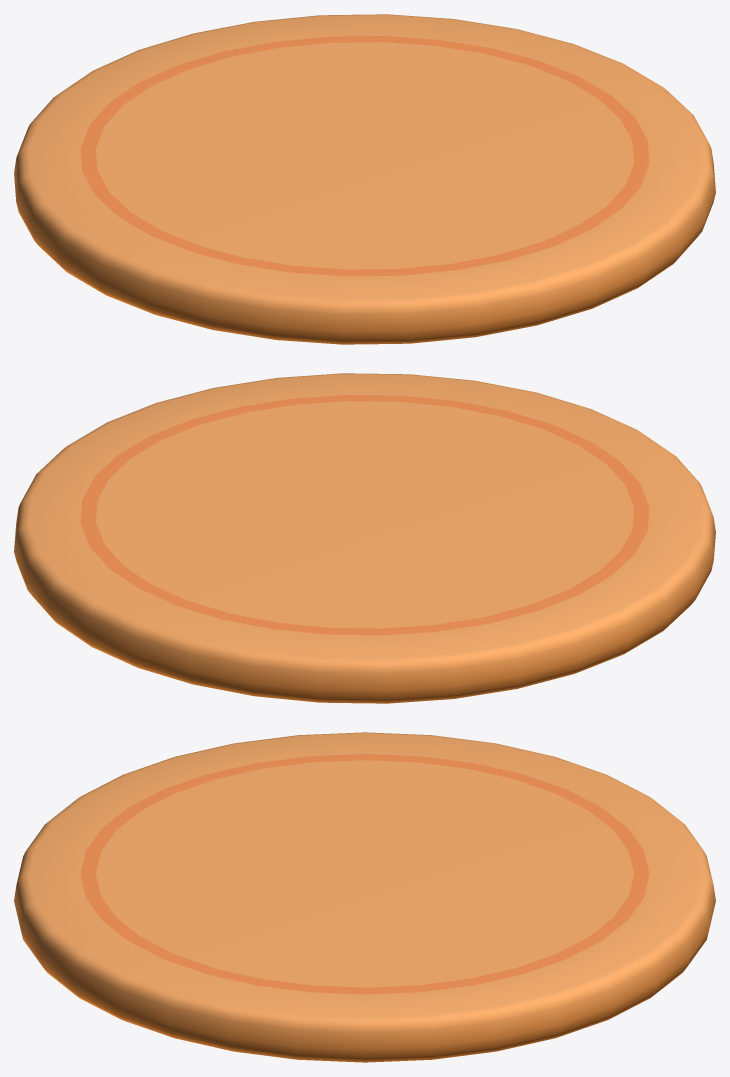
File: board_001.fbx
The picture shows the model from 3 angles, top to bottom: view 1: azimuth 30°, elevation 25°; view 2: azimuth 150°, elevation 25°; view 3: azimuth 270°, elevation 25°; orthographic projection.
Parts seen in each view (by area): view 1: board_001; view 2: board_001; view 3: board_001.
Part boxes in pixels (<box>): board_001: <box>14,14,715,344</box>; board_001: <box>14,373,715,703</box>; board_001: <box>14,732,715,1062</box>.
Size of the model in its own units: 30.47 by 30.47 by 2.08.
